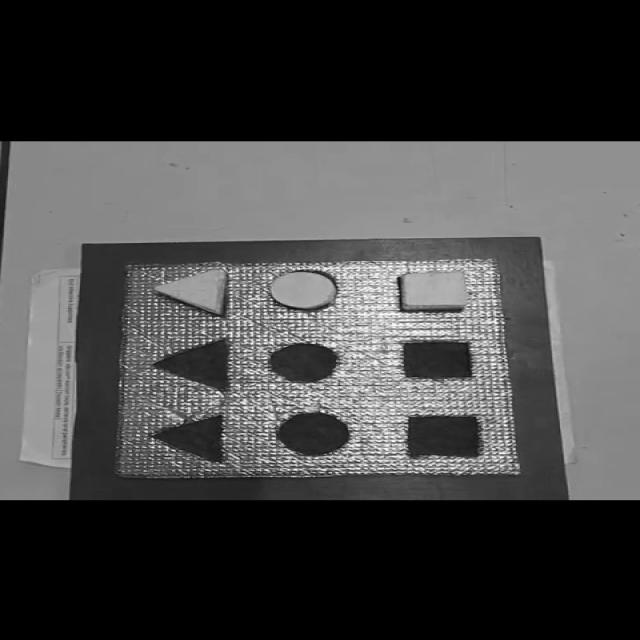mtcircle: (276, 410, 352, 456), (268, 342, 340, 382)
mtcube: (404, 413, 484, 458), (401, 340, 476, 379)
mttriangle: (151, 338, 233, 391), (149, 413, 228, 463)
wb: (114, 257, 520, 478)
ycircle: (268, 269, 338, 310)
ycube: (396, 268, 469, 312)
ytriangle: (151, 267, 229, 316)
